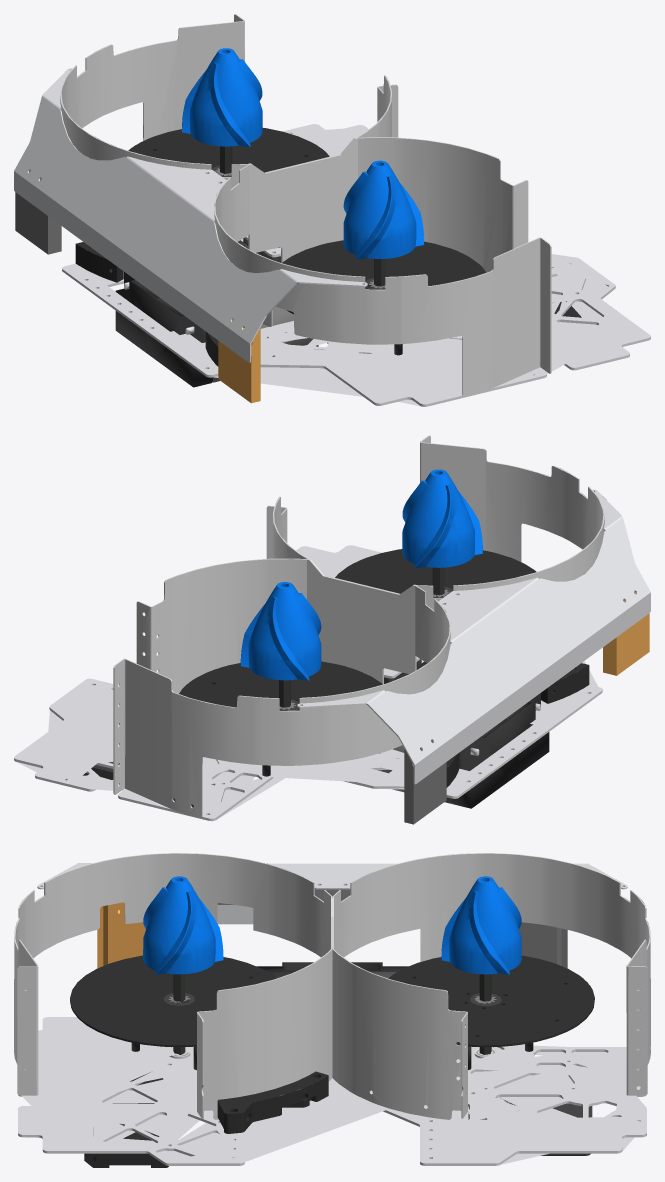
File: 2026 - 1706 spindexer.fbx
The picture shows the model from 3 angles, top to bottom: view 1: azimuth 30°, elevation 25°; view 2: azimuth 150°, elevation 25°; view 3: azimuth 270°, elevation 25°; orthographic projection.
Parts seen in each view (by area): view 1: Part 13.001, Part 25, RB-70-105, RB-70-101, Part 1-Mirrored, Part 1.004, RB-70-FOREHEAD.001, RB-70-FOREHEAD, am-0844 (Battery), Part 26-Mirrored, Part 26, RB-70-104; view 2: RB-70-101, Part 25, RB-70-105, Part 13.001, Part 1.004, Part 1-Mirrored, RB-70-FOREHEAD, RB-70-FOREHEAD.001, am-0844 (Battery), Part 26, Part 26-Mirrored, RB-70-104.001; view 3: RB-70-105, RB-70-101, Part 13.001, RB-70-FOREHEAD.001, RB-70-FOREHEAD, Part 1-Mirrored, Part 1.004, RB-70-102-Mirrored, Part 25, Part 26-Mirrored, Part 26, 24-806880 (PDP 2.0) (+2 smaller).
Boxes of the visible parts, x1,y1,x2,y2 form: Part 13.001: [214, 137, 551, 396]; Part 25: [14, 68, 367, 362]; RB-70-105: [62, 124, 650, 406]; RB-70-101: [60, 14, 398, 279]; Part 1-Mirrored: [343, 160, 424, 259]; Part 1.004: [182, 48, 262, 146]; RB-70-FOREHEAD.001: [282, 240, 486, 314]; RB-70-FOREHEAD: [128, 128, 329, 172]; am-0844 (Battery): [115, 240, 318, 387]; Part 26-Mirrored: [218, 318, 260, 403]; Part 26: [15, 170, 61, 254]; RB-70-104: [75, 242, 123, 282]; RB-70-101: [113, 558, 450, 817]; Part 25: [297, 489, 650, 784]; RB-70-105: [14, 545, 602, 821]; Part 13.001: [266, 435, 604, 684]; Part 1.004: [240, 582, 321, 680]; Part 1-Mirrored: [402, 469, 482, 568]; RB-70-FOREHEAD: [179, 661, 382, 710]; RB-70-FOREHEAD.001: [335, 549, 536, 596]; am-0844 (Battery): [378, 661, 549, 808]; Part 26: [404, 739, 446, 824]; Part 26-Mirrored: [603, 591, 649, 675]; RB-70-104.001: [541, 663, 589, 703]; RB-70-105: [18, 1017, 646, 1165]; RB-70-101: [332, 853, 650, 1119]; Part 13.001: [14, 853, 332, 1119]; RB-70-FOREHEAD.001: [70, 955, 276, 1047]; RB-70-FOREHEAD: [388, 955, 594, 1047]; Part 1-Mirrored: [143, 876, 223, 974]; Part 1.004: [441, 876, 521, 974]; RB-70-102-Mirrored: [217, 1071, 328, 1133]; Part 25: [37, 863, 627, 924]; Part 26-Mirrored: [97, 902, 145, 968]; Part 26: [519, 922, 567, 968]; 24-806880 (PDP 2.0): [84, 1072, 168, 1167].
Bounding box in the file's own units: 53.55 × 27.43 × 73.98.
